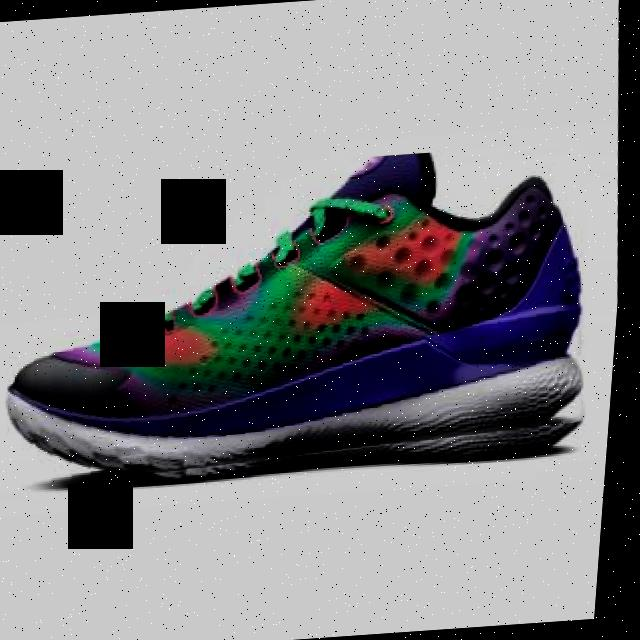shoe: (0, 141, 611, 491)
